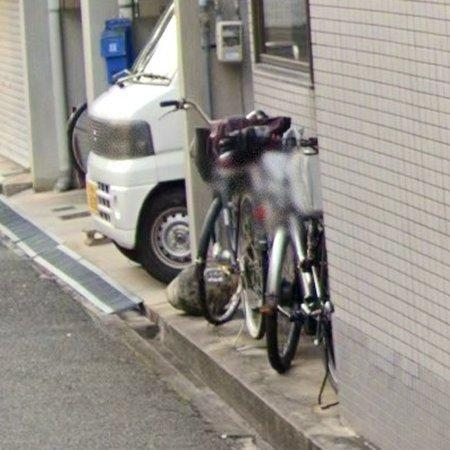bicycles: (163, 101, 292, 338), (250, 131, 338, 409)
